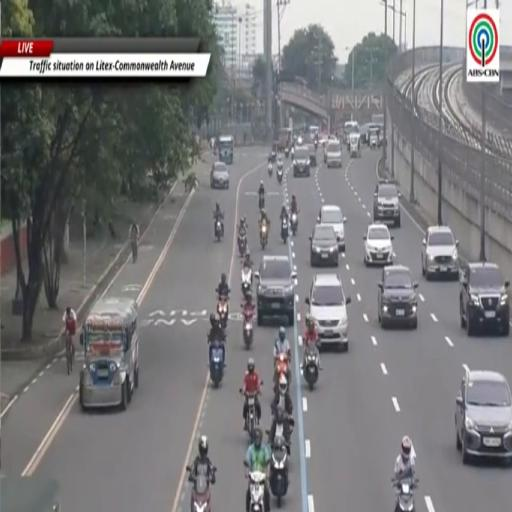car: (455, 366, 511, 463), (460, 262, 509, 335), (306, 274, 350, 350), (255, 255, 296, 325), (378, 265, 417, 329), (422, 227, 458, 280), (317, 205, 346, 251), (373, 180, 401, 227), (364, 223, 393, 266), (310, 224, 338, 266), (292, 147, 310, 177), (210, 163, 229, 188), (325, 141, 342, 167), (367, 125, 380, 149), (307, 143, 317, 167), (360, 124, 369, 145)
jeepney: (79, 297, 138, 410), (0, 476, 61, 511), (219, 136, 233, 164), (349, 134, 360, 157)
motorcycle: (270, 438, 288, 507), (187, 467, 210, 511), (268, 419, 294, 455), (392, 478, 418, 511), (302, 344, 319, 390), (249, 472, 266, 511), (210, 341, 224, 388), (245, 393, 258, 442), (274, 354, 290, 392), (243, 309, 254, 349), (218, 296, 228, 329), (242, 266, 252, 297), (238, 235, 247, 258), (281, 217, 288, 243), (215, 219, 223, 241), (260, 224, 267, 249), (291, 213, 297, 235), (258, 194, 265, 210), (277, 168, 282, 184), (270, 151, 276, 163), (268, 163, 273, 177), (285, 148, 289, 158), (314, 141, 318, 150)
